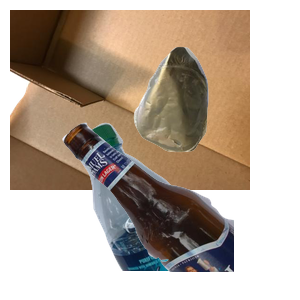cardboard: (10, 10, 250, 190)
glass: (60, 120, 300, 300)
plastic: (71, 120, 300, 300)
trash: (131, 44, 300, 189)
